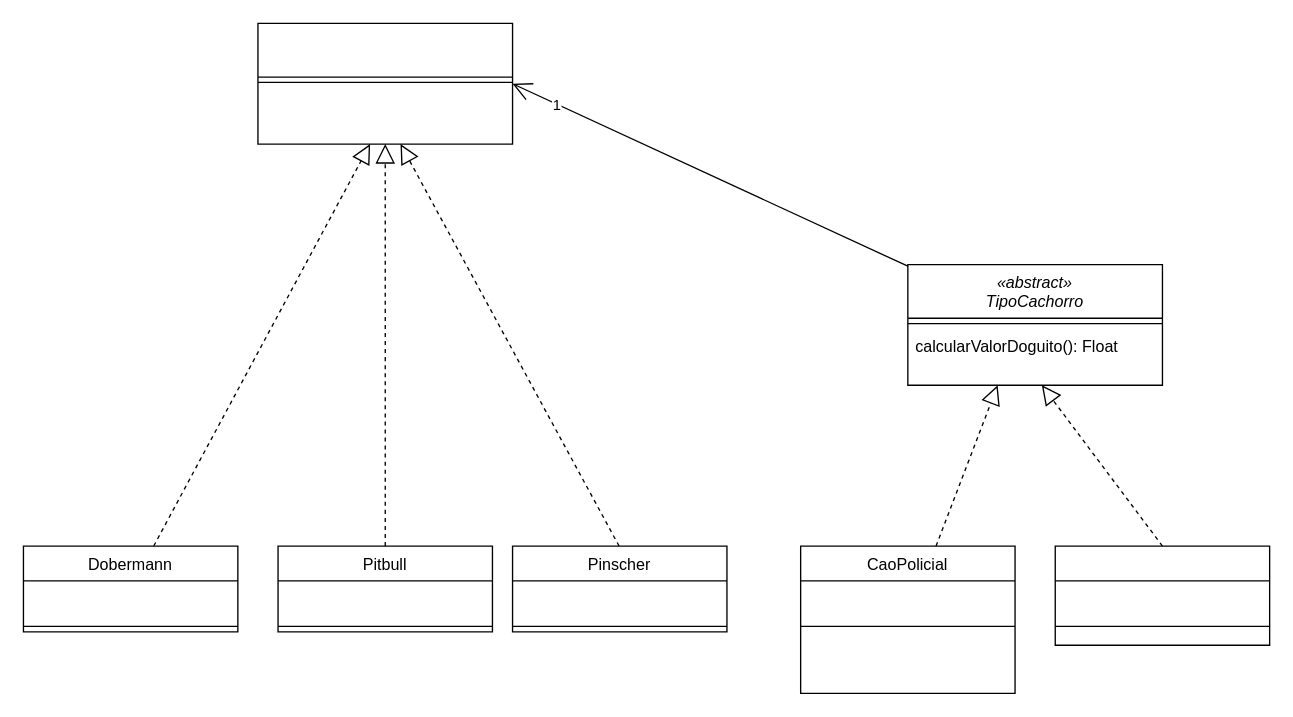
Image size: 1293x717. Some labels were removed from this diagram. The shapes that lost their labels are listed below. From the top down, each one's centre as x and y in pixels, then its label:
point 385,83: «interface» Loja
point 1162,595: CaoDeGuarda
